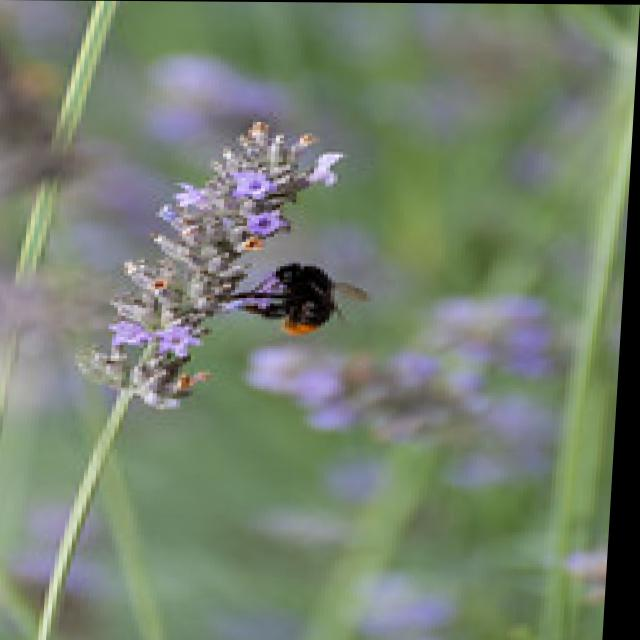Abeille: (242, 254, 387, 353)
